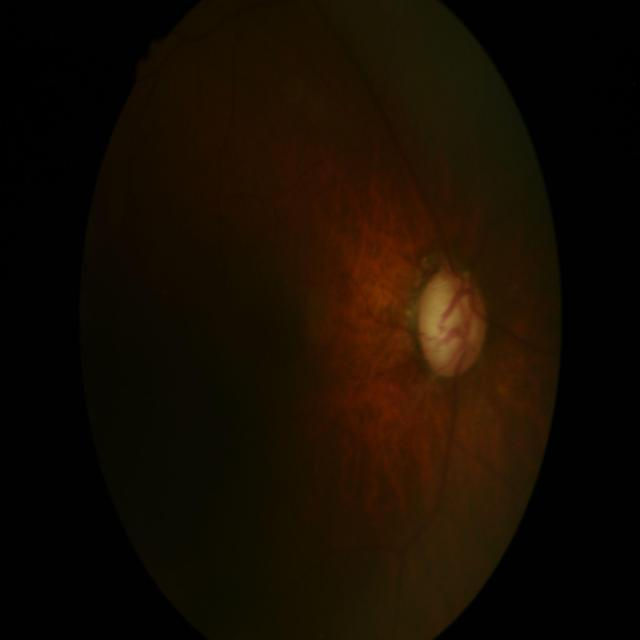cup: (426, 276, 474, 370)
disk: (416, 266, 488, 378)
